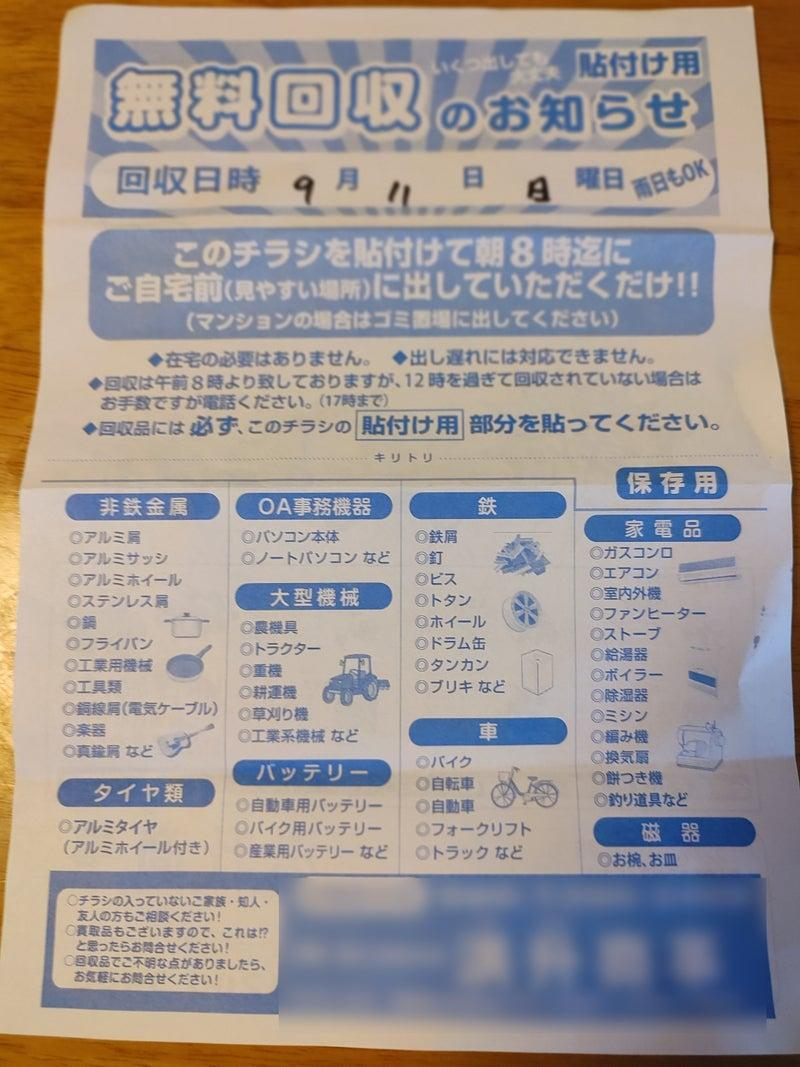paper: (0, 0, 799, 1053)
